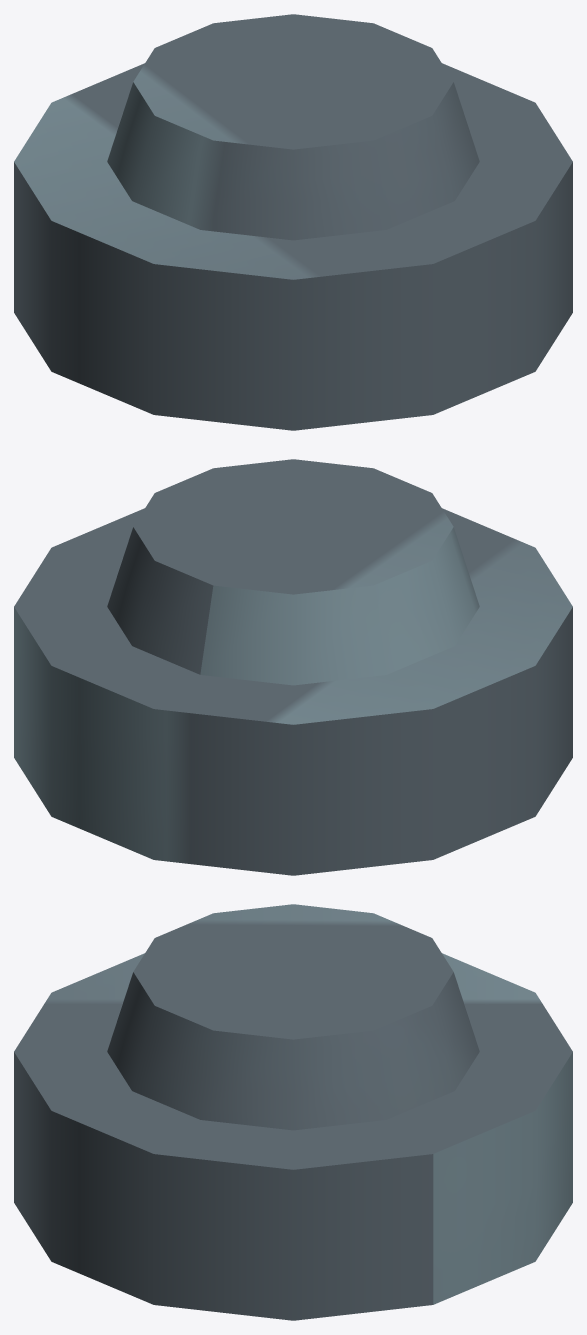
The model's file is wheel_default.fbx.
3 renders of one model, top to bottom at view 1: azimuth 30°, elevation 25°; view 2: azimuth 150°, elevation 25°; view 3: azimuth 270°, elevation 25°, orthographic.
Visible parts, largest first — view 1: zapaska; view 2: zapaska; view 3: zapaska.
Boxes of the visible parts, x1,y1,x2,y2 form: zapaska: [14, 14, 572, 430]; zapaska: [14, 459, 572, 875]; zapaska: [14, 904, 572, 1320].
Size of the model in its own units: 3.85 by 1.75 by 3.85.
